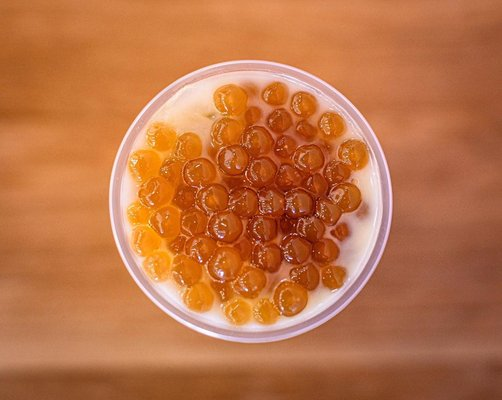sushi: (112, 71, 392, 345)
